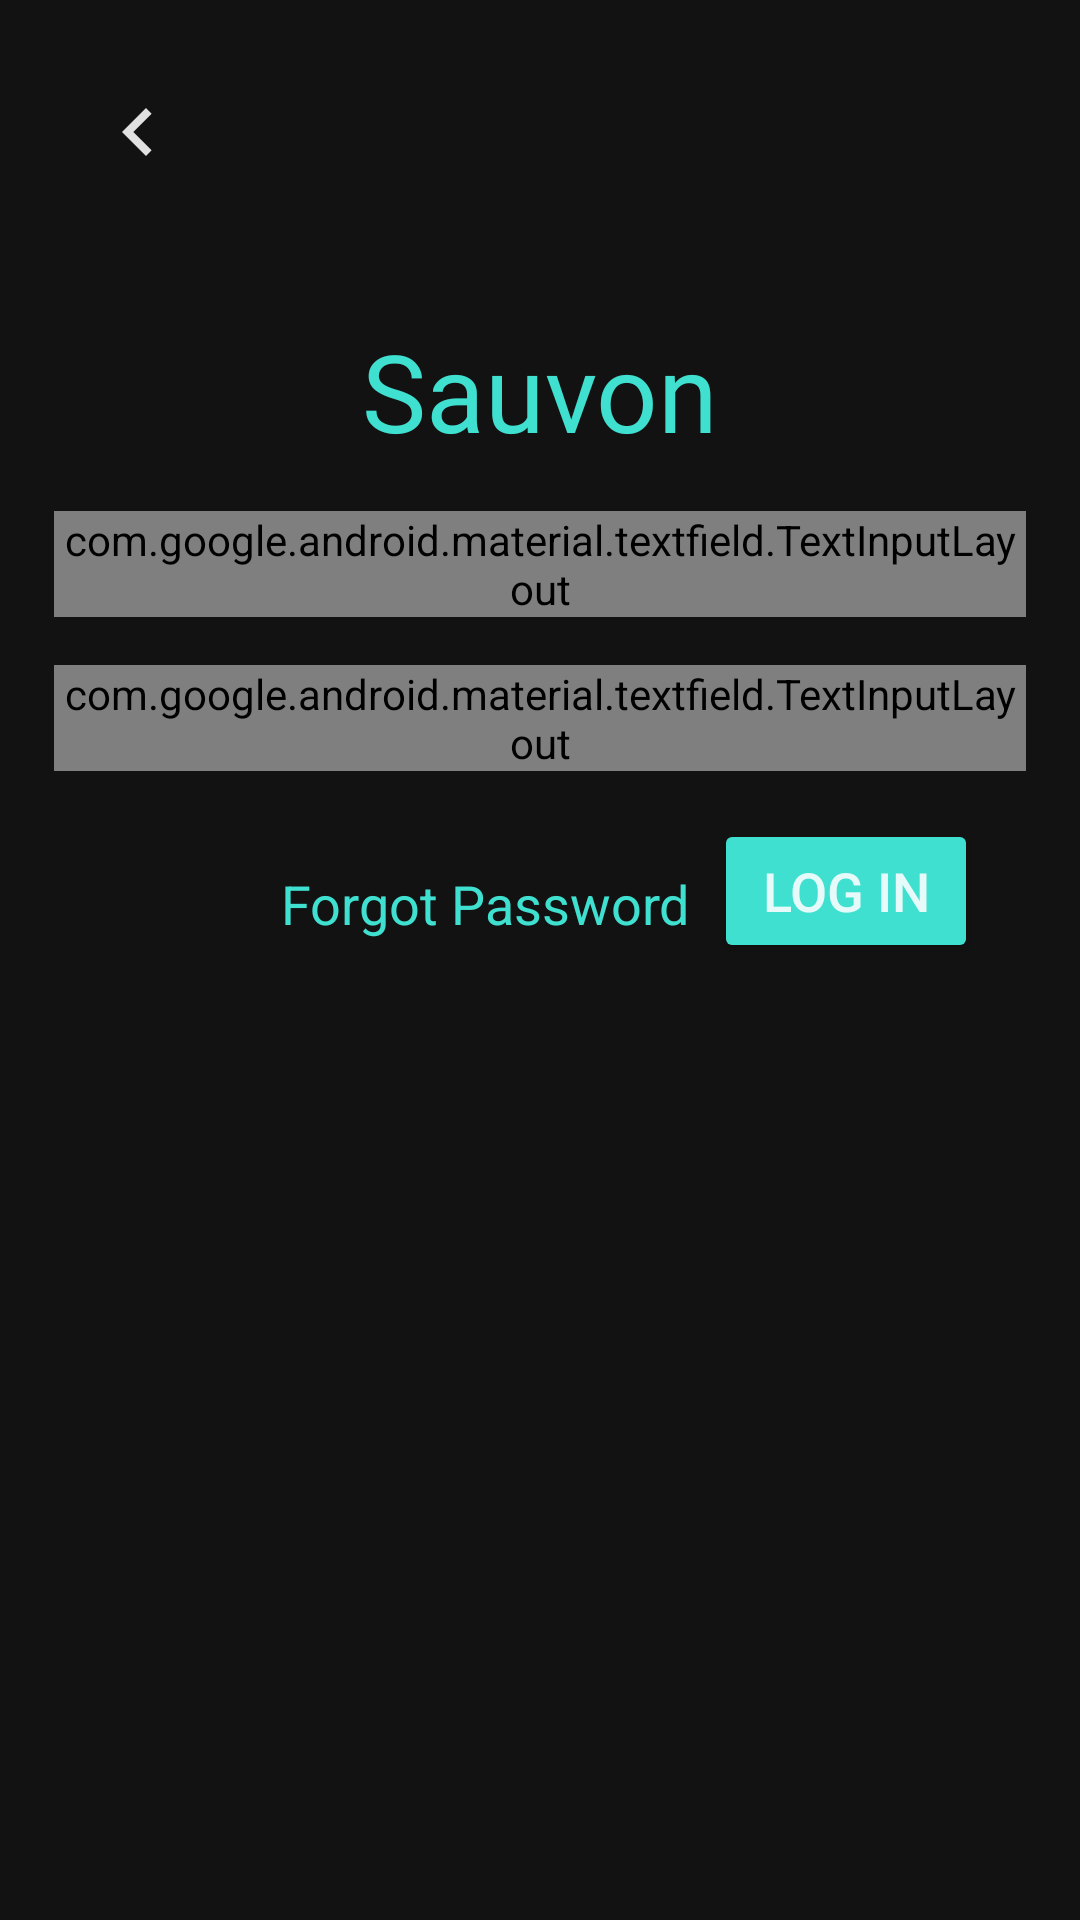

Icon bounding boxes for this 1080 × 1920 phone screenshot, format [x1=x1, y1=y1, x2=x2, y2=y2]:
chevron left: [x1=122, y1=108, x2=152, y2=156]
